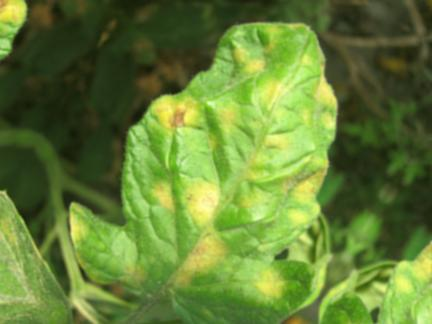Tomato mold leaf: (34, 0, 432, 324)
